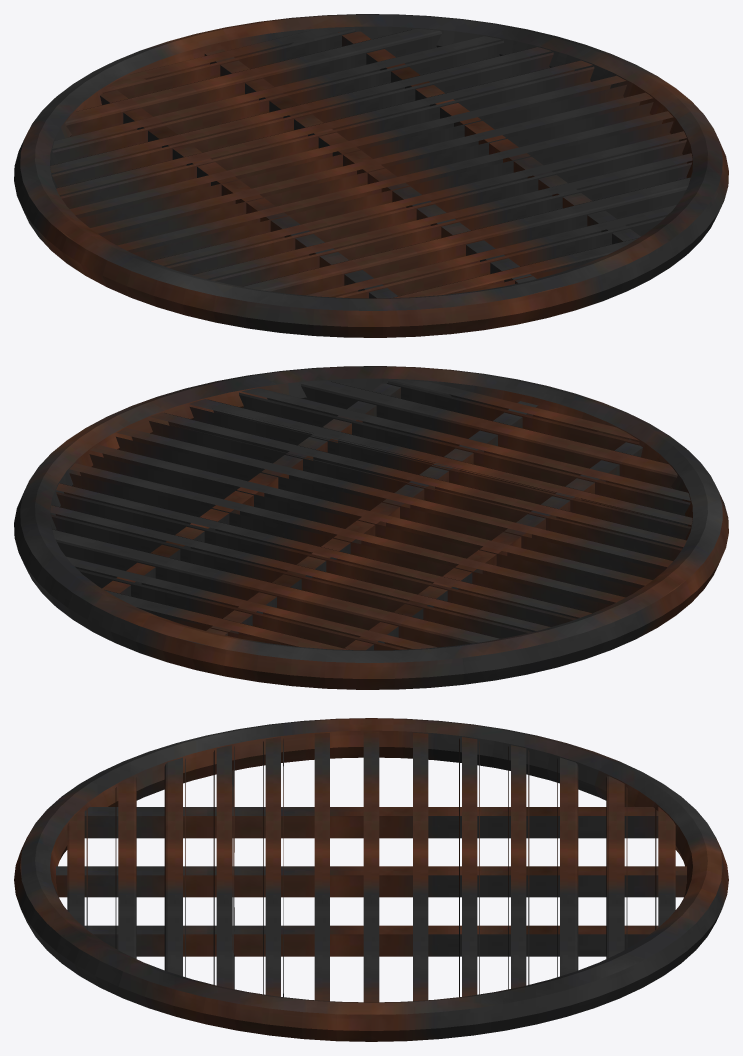
File: Y20_SewerFloorGrate.glb
3 views of the same model, one above another, from view 1: azimuth 30°, elevation 25°; view 2: azimuth 150°, elevation 25°; view 3: azimuth 270°, elevation 25° (orthographic).
Parts seen in each view (by area): view 1: Y20_SewerFloorGrate; view 2: Y20_SewerFloorGrate; view 3: Y20_SewerFloorGrate.
Part boxes in pixels (x1,y1,x2,y2): Y20_SewerFloorGrate: [14, 14, 728, 337]; Y20_SewerFloorGrate: [14, 366, 728, 689]; Y20_SewerFloorGrate: [14, 718, 728, 1041].
Bounding box in the file's own units: 1 × 0.0588 × 1.
1 material, 1 textured.
